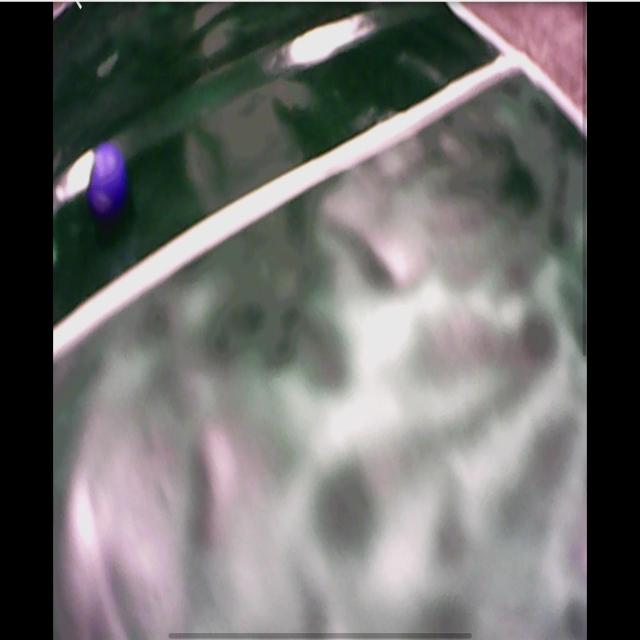ball: (87, 145, 124, 211)
